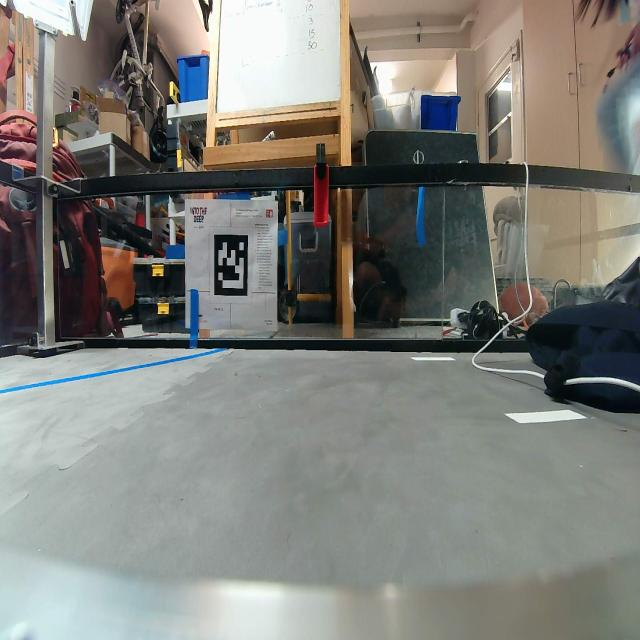specimen_block_red: (314, 160, 331, 226)
